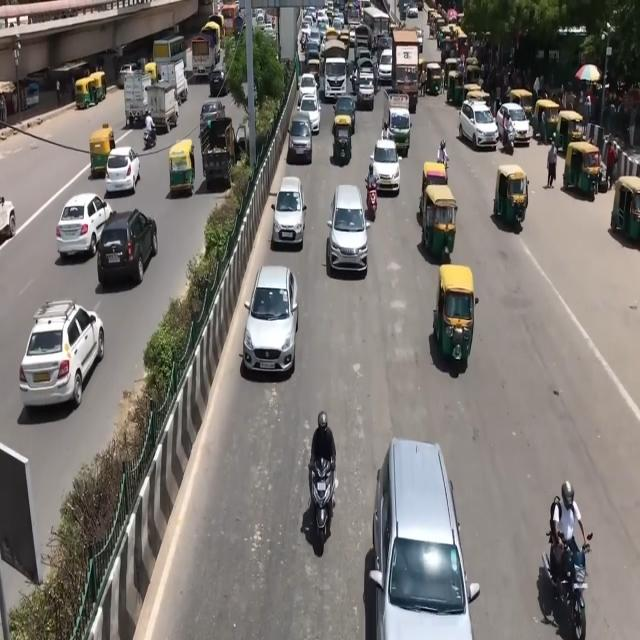auto: (432, 271, 475, 373), (420, 182, 458, 260), (493, 163, 530, 230), (564, 141, 602, 201), (610, 175, 640, 243), (168, 139, 195, 197), (89, 124, 116, 178), (554, 109, 584, 156), (534, 98, 560, 145), (332, 114, 352, 164), (446, 66, 466, 108), (75, 77, 95, 109), (87, 72, 106, 105), (425, 62, 443, 96), (144, 61, 158, 85)
bike-auto: (545, 482, 601, 640), (544, 525, 591, 640), (307, 412, 338, 558), (307, 412, 335, 531), (366, 164, 378, 213), (144, 112, 156, 146), (437, 140, 449, 168)
